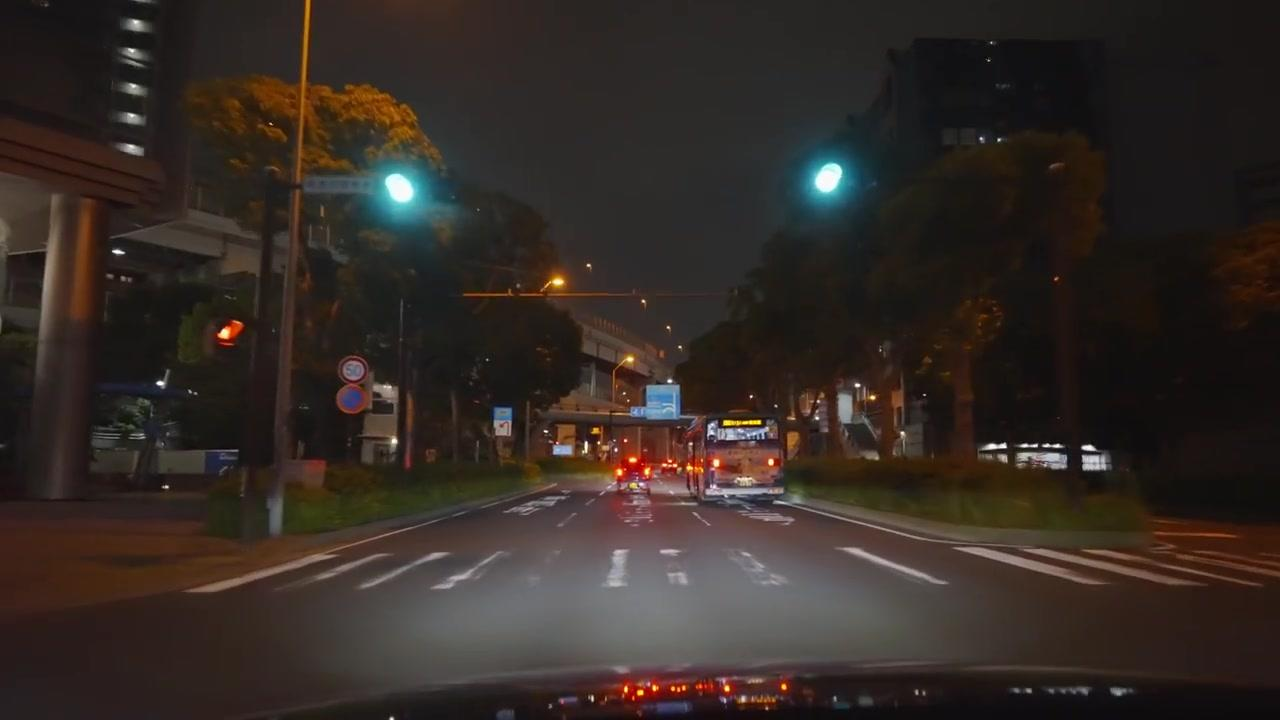bus: (680, 413, 785, 503)
car: (616, 450, 652, 487)
traffic light: (376, 166, 424, 221), (807, 149, 848, 200), (212, 318, 245, 357)
